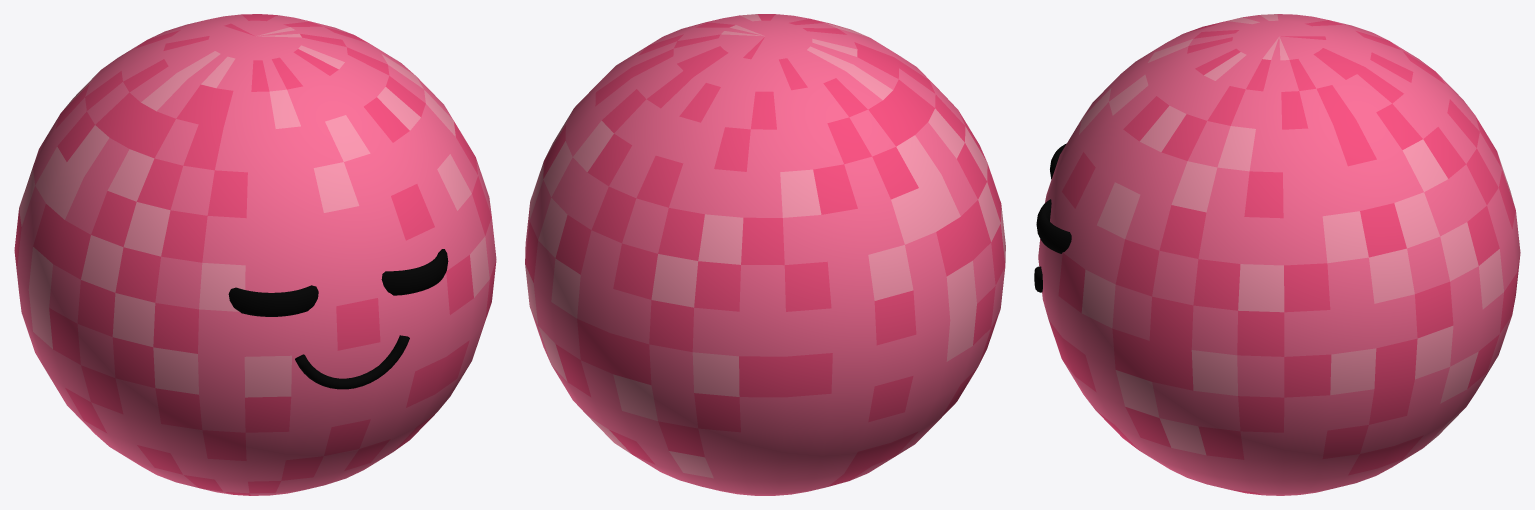
The model's file is bola.fbx.
3 renders of one model, left to right at view 1: azimuth 30°, elevation 25°; view 2: azimuth 150°, elevation 25°; view 3: azimuth 270°, elevation 25°, orthographic.
Visible parts, largest first — view 1: Sphere; view 2: Sphere; view 3: Sphere.
Boxes of the visible parts, x1=… form: Sphere: x1=14, y1=14, x2=496, y2=495; Sphere: x1=525, y1=14, x2=1005, y2=495; Sphere: x1=1034, y1=14, x2=1520, y2=495.
Size of the model in its own units: 240 by 240 by 242.
